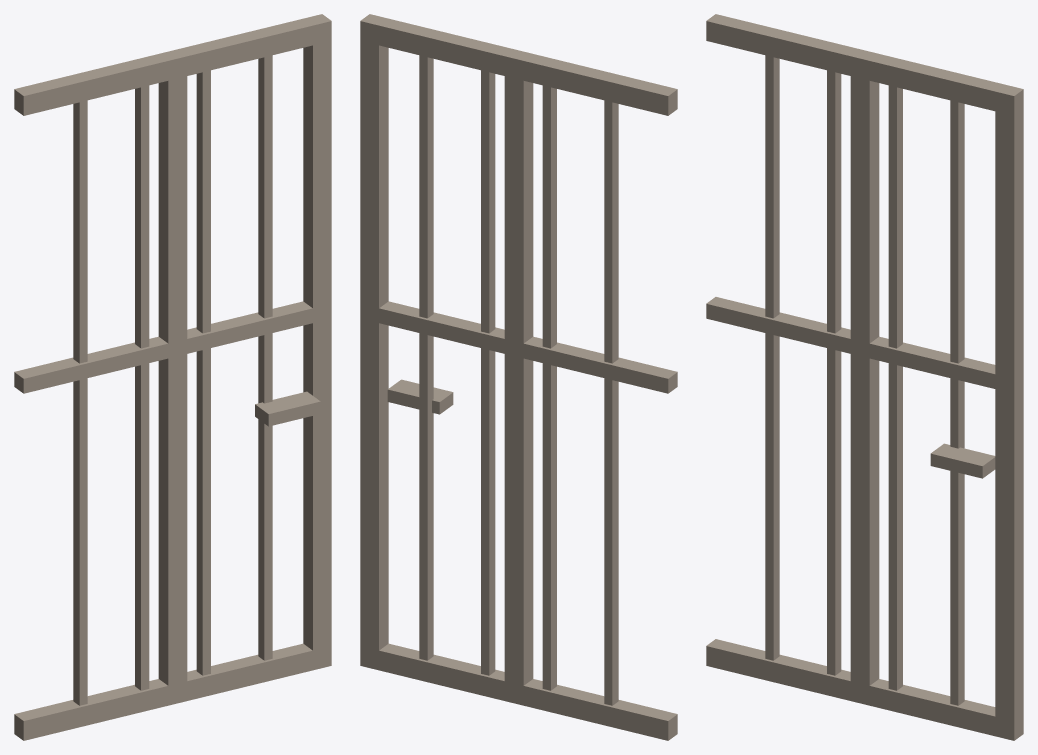
Rendered from portao_be285bb027.gltf.
3 renders of one model, left to right at view 1: azimuth 30°, elevation 25°; view 2: azimuth 150°, elevation 25°; view 3: azimuth 330°, elevation 25°, orthographic.
Parts seen in each view (by area): view 1: portao_be285bb027; view 2: portao_be285bb027; view 3: portao_be285bb027.
Boxes of the visible parts, left/top/right/bottom form: portao_be285bb027: left=14, top=14, right=331, bottom=740; portao_be285bb027: left=360, top=14, right=677, bottom=740; portao_be285bb027: left=706, top=14, right=1023, bottom=740.
Bounding box in the file's own units: 1.3 × 2.6 × 0.145.
